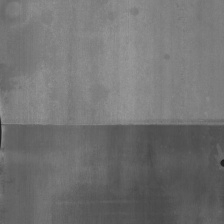welding_line: (0, 119, 224, 135), (0, 110, 2, 150), (218, 156, 224, 168)
